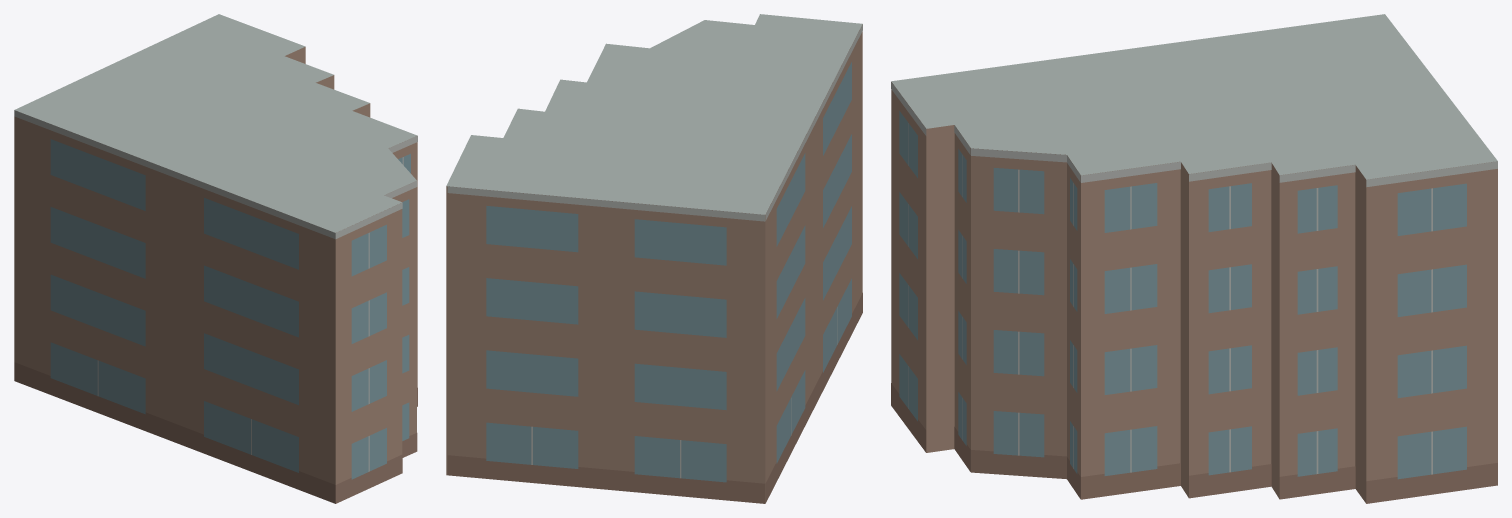
Rendered from survey-upis-32957216.glb.
3 views of the same model, side by side, from view 1: azimuth 30°, elevation 25°; view 2: azimuth 150°, elevation 25°; view 3: azimuth 270°, elevation 25° (orthographic). The views are drawn at different scales.
Parts seen in each view (by area): view 1: survey-upis-32957216.tmp; view 2: survey-upis-32957216.tmp; view 3: survey-upis-32957216.tmp.
Part boxes in pixels (x1,y1,x2,y2): survey-upis-32957216.tmp: [14, 14, 417, 503]; survey-upis-32957216.tmp: [446, 14, 862, 503]; survey-upis-32957216.tmp: [891, 14, 1497, 503].
Bounding box in the file's own units: 11.41 × 10.4 × 17.65.
